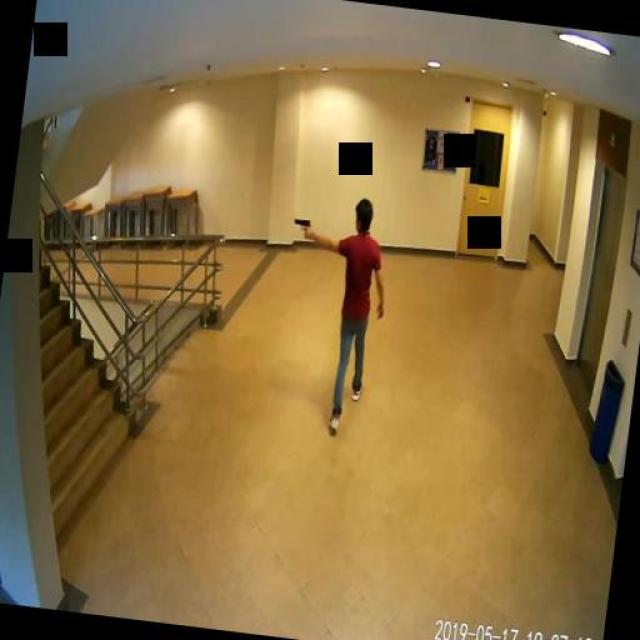gun: (290, 215, 309, 237)
